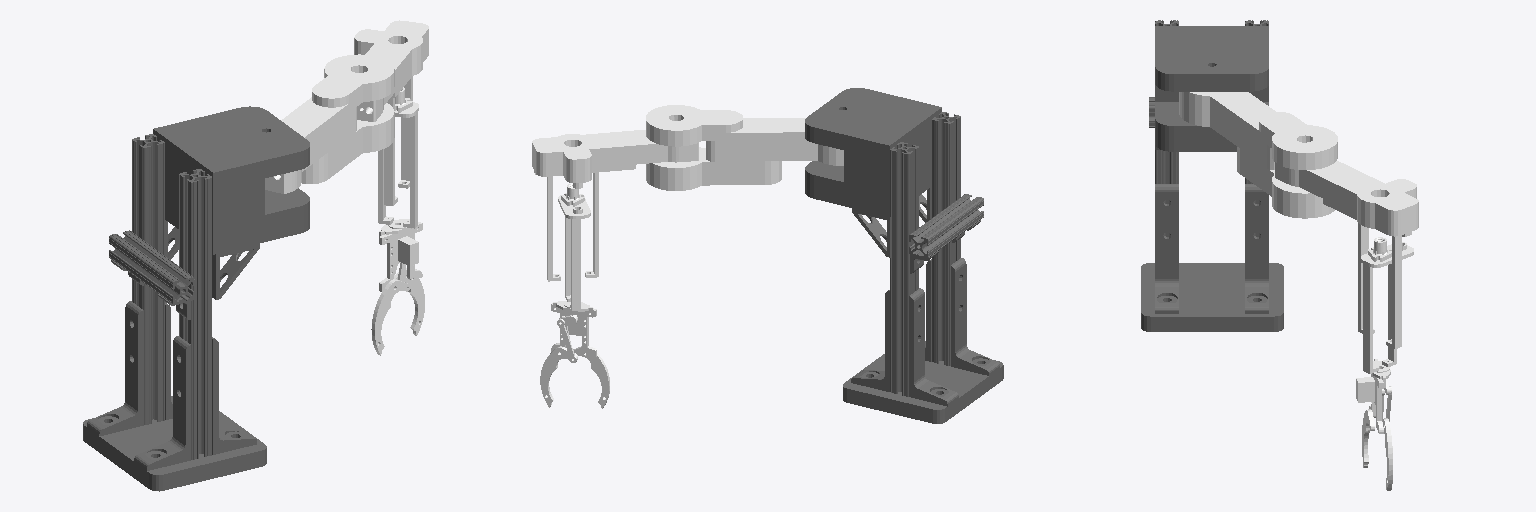
URDF robot description (adept_robot_1):
<?xml version="1.0" encoding="utf-8"?>
<!-- This URDF was automatically created by SolidWorks to URDF Exporter! Originally created by [author] ([email redacted]) 
     Commit Version: 1.5.1-0-g916b5db  Build Version: 1.5.7152.31018
     For more information, please see http://wiki.ros.org/sw_urdf_exporter -->
<robot
  name="adept_robot_1">
  <link
    name="base_link">
    <inertial>
      <origin
        xyz="0.028666 -0.00015364 0.14106"
        rpy="0 0 0" />
      <mass
        value="2.565" />
      <inertia
        ixx="0.005891"
        ixy="5.4055E-11"
        ixz="6.4323E-05"
        iyy="0.0053816"
        iyz="-3.5928E-12"
        izz="0.0061554" />
    </inertial>
    <visual>
      <origin
        xyz="0 0 0"
        rpy="0 0 0" />
      <geometry>
        <mesh
          filename="package://adept_robot_1/meshes/base_link.STL" />
      </geometry>
      <material
        name="">
        <color
          rgba="0.50196 0.50196 0.50196 1" />
      </material>
    </visual>
    <collision>
      <origin
        xyz="0 0 0"
        rpy="0 0 0" />
      <geometry>
        <mesh
          filename="package://adept_robot_1/meshes/base_link.STL" />
      </geometry>
    </collision>
  </link>
  <link
    name="Link1">
    <inertial>
      <origin
        xyz="0.100675386532307 0.0602522370997171 0.0384712439856732"
        rpy="0 0 0" />
      <mass
        value="0.56850728923011" />
      <inertia
        ixx="0.000880665593009749"
        ixy="-0.000811418376312422"
        ixz="0.000106050401275572"
        iyy="0.00175084560162715"
        iyz="6.34690780213349E-05"
        izz="0.00210823760335471" />
    </inertial>
    <visual>
      <origin
        xyz="0 0 0"
        rpy="0 0 0" />
      <geometry>
        <mesh
          filename="package://adept_robot_1/meshes/Link1.STL" />
      </geometry>
      <material
        name="">
        <color
          rgba="1 1 1 1" />
      </material>
    </visual>
    <collision>
      <origin
        xyz="0 0 0"
        rpy="0 0 0" />
      <geometry>
        <mesh
          filename="package://adept_robot_1/meshes/Link1.STL" />
      </geometry>
    </collision>
  </link>
  <joint
    name="Joint1"
    type="revolute">
    <origin
      xyz="0.10571 -0.0001601 0.22388"
      rpy="0 0 0" />
    <parent
      link="base_link" />
    <child
      link="Link1" />
    <axis
      xyz="0 0 1" />
    <limit
      lower="-2"
      upper="2"
      effort="0"
      velocity="1" />
  </joint>
  <link
    name="Link2">
    <inertial>
      <origin
        xyz="0.0605382385616534 0.0567786574084361 0.00977088530814851"
        rpy="0 0 0" />
      <mass
        value="0.212874058600781" />
      <inertia
        ixx="0.000223898669015198"
        ixy="-0.000163221407324826"
        ixz="5.86458508448241E-06"
        iyy="0.000232202235405213"
        iyz="6.17838218976215E-06"
        izz="0.000425987377018601" />
    </inertial>
    <visual>
      <origin
        xyz="0 0 0"
        rpy="0 0 0" />
      <geometry>
        <mesh
          filename="package://adept_robot_1/meshes/Link2.STL" />
      </geometry>
      <material
        name="">
        <color
          rgba="1 1 1 1" />
      </material>
    </visual>
    <collision>
      <origin
        xyz="0 0 0"
        rpy="0 0 0" />
      <geometry>
        <mesh
          filename="package://adept_robot_1/meshes/Link2.STL" />
      </geometry>
    </collision>
  </link>
  <joint
    name="Joint2"
    type="revolute">
    <origin
      xyz="0.16303 0.097572 0.031"
      rpy="0 0 0" />
    <parent
      link="Link1" />
    <child
      link="Link2" />
    <axis
      xyz="0 0 1" />
    <limit
      lower="-2"
      upper="2"
      effort="0"
      velocity="1" />
  </joint>
  <link
    name="Tool">
    <inertial>
      <origin
        xyz="-4.30677511026323E-06 -0.00299989925362837 0.0348778462843256"
        rpy="0 0 0" />
      <mass
        value="0.023545411123381" />
      <inertia
        ixx="4.56549112028816E-05"
        ixy="-7.94182515088701E-09"
        ixz="-4.54390491574587E-09"
        iyy="4.00718269980049E-05"
        iyz="-3.17468051897677E-06"
        izz="6.99639144528096E-06" />
    </inertial>
    <visual>
      <origin
        xyz="0 0 0"
        rpy="0 0 0" />
      <geometry>
        <mesh
          filename="package://adept_robot_1/meshes/Tool.STL" />
      </geometry>
      <material
        name="">
        <color
          rgba="1 1 1 1" />
      </material>
    </visual>
    <collision>
      <origin
        xyz="0 0 0"
        rpy="0 0 0" />
      <geometry>
        <mesh
          filename="package://adept_robot_1/meshes/Tool.STL" />
      </geometry>
    </collision>
  </link>
  <joint
    name="Tool1"
    type="prismatic">
    <origin
      xyz="0.090275 0.079059 -0.053023"
      rpy="3.1416 0 0.71926" />
    <parent
      link="Link2" />
    <child
      link="Tool" />
    <axis
      xyz="0 0 1" />
    <limit
      lower="0"
      upper="0.06"
      effort="0"
      velocity="0.075" />
  </joint>
  <link
    name="Link_4">
    <inertial>
      <origin
        xyz="0.00058939814122394 0.00430885017149519 0.0431953969126737"
        rpy="0 0 0" />
      <mass
        value="0.0317141760755607" />
      <inertia
        ixx="8.27991249324116E-06"
        ixy="5.65096116311762E-07"
        ixz="2.86955897465492E-07"
        iyy="1.09886715451552E-05"
        iyz="-1.0251065809926E-07"
        izz="4.04352789918834E-06" />
    </inertial>
    <visual>
      <origin
        xyz="0 0 0"
        rpy="0 0 0" />
      <geometry>
        <mesh
          filename="package://adept_robot_1/meshes/Link_4.STL" />
      </geometry>
      <material
        name="">
        <color
          rgba="1 1 1 0.32" />
      </material>
    </visual>
    <collision>
      <origin
        xyz="0 0 0"
        rpy="0 0 0" />
      <geometry>
        <mesh
          filename="package://adept_robot_1/meshes/Link_4.STL" />
      </geometry>
    </collision>
  </link>
  <joint
    name="Revolute4"
    type="revolute">
    <origin
      xyz="0.00013701 0 0.125"
      rpy="0 0 0.71926" />
    <parent
      link="Tool" />
    <child
      link="Link_4" />
    <axis
      xyz="0 0 1" />
    <limit
      lower="0"
      upper="1.57"
      effort="0"
      velocity="0.5" />
  </joint>
  <link
    name="RigidBody">
    <inertial>
      <origin
        xyz="-3.88578058618805E-16 -2.60902410786912E-15 0.0207644820809651"
        rpy="0 0 0" />
      <mass
        value="0.0158708742949296" />
      <inertia
        ixx="3.06313086445426E-05"
        ixy="-3.3881317890172E-21"
        ixz="4.33468061827087E-21"
        iyy="3.06883773759365E-05"
        iyz="2.81637706833088E-20"
        izz="3.26387814501793E-07" />
    </inertial>
    <visual>
      <origin
        xyz="0 0 0"
        rpy="0 0 0" />
      <geometry>
        <mesh
          filename="package://adept_robot_1/meshes/RigidBody.STL" />
      </geometry>
      <material
        name="">
        <color
          rgba="1 1 1 1" />
      </material>
    </visual>
    <collision>
      <origin
        xyz="0 0 0"
        rpy="0 0 0" />
      <geometry>
        <mesh
          filename="package://adept_robot_1/meshes/RigidBody.STL" />
      </geometry>
    </collision>
  </link>
  <joint
    name="Fixed_Body"
    type="fixed">
    <origin
      xyz="0.090275 0.079059 -0.053023"
      rpy="3.1416 0 0.71926" />
    <parent
      link="Link2" />
    <child
      link="RigidBody" />
    <axis
      xyz="0 0 0" />
    <limit
      lower="0"
      upper="0"
      effort="0"
      velocity="0" />
    <safety_controller
      soft_upper="0"
      soft_lower="0"
      k_position="0"
      k_velocity="0" />
  </joint>
</robot>

--- What the picture shows (computed from the rendered views, not written in the file) ---
3 views of the same robot in one strip: view 1: azimuth 30°, elevation 25°; view 2: azimuth 150°, elevation 25°; view 3: azimuth 270°, elevation 25° (orthographic).
Robot: adept_robot_1 — 6 links, 5 joints (3 revolute, 1 prismatic, 1 fixed); root link base_link; default pose: every joint at zero.
Visible links, largest first — view 1: base_link, Link1, Link2, Link_4, Tool, RigidBody; view 2: base_link, Link1, Link2, Link_4, Tool, RigidBody; view 3: base_link, Link1, Link2, Tool, Link_4, RigidBody.
Link boxes in pixels (x1,y1,x2,y2): base_link: [83, 106, 309, 491]; Link1: [265, 54, 394, 193]; Link2: [354, 20, 428, 121]; Link_4: [371, 219, 424, 355]; Tool: [378, 87, 418, 228]; RigidBody: [384, 76, 412, 205]; base_link: [805, 88, 1003, 423]; Link1: [646, 105, 843, 190]; Link2: [532, 130, 698, 188]; Link_4: [540, 301, 609, 408]; Tool: [558, 184, 590, 310]; RigidBody: [534, 171, 598, 281]; base_link: [1141, 20, 1283, 331]; Link1: [1179, 92, 1337, 218]; Link2: [1275, 161, 1418, 236]; Tool: [1361, 237, 1413, 373]; Link_4: [1356, 359, 1392, 490]; RigidBody: [1358, 223, 1411, 348].
Bounding box of the posed robot: 0.4684 × 0.292 × 0.3651 m (x, y, z).
Meshes: 6 distinct files referenced, 6 mesh visuals loaded (6 binary STL).